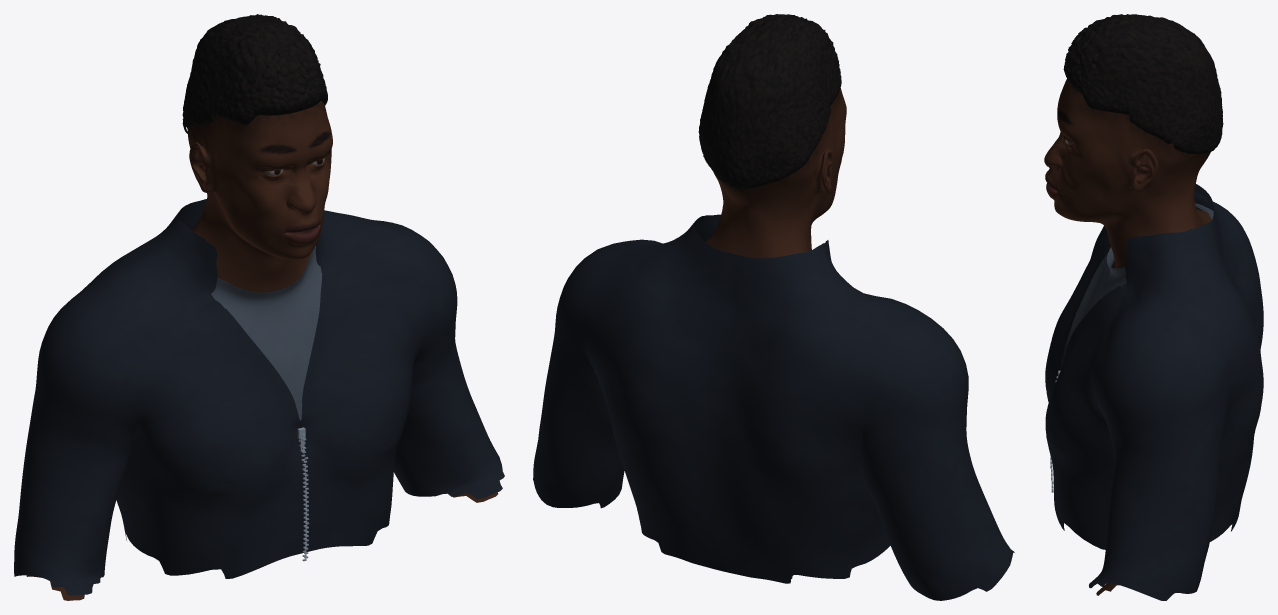
Rendered from cheikh-avatar-lite.glb.
3 renders of one model, left to right at view 1: azimuth 30°, elevation 25°; view 2: azimuth 150°, elevation 25°; view 3: azimuth 270°, elevation 25°, orthographic. The views are drawn at different scales.
Visible parts, largest first — view 1: Jacket, Skin, Hair, Tshirt, Zipper; view 2: Jacket, Hair, Skin; view 3: Jacket, Skin, Hair, Tshirt.
Boxes of the visible parts, left/top/right/bottom form: Jacket: left=14, top=199, right=504, bottom=595; Skin: left=26, top=100, right=498, bottom=600; Hair: left=182, top=14, right=327, bottom=133; Tshirt: left=211, top=245, right=322, bottom=420; Zipper: left=297, top=427, right=309, bottom=561; Jacket: left=533, top=214, right=1014, bottom=600; Hair: left=698, top=14, right=841, bottom=189; Skin: left=705, top=88, right=846, bottom=575; Jacket: left=1045, top=184, right=1263, bottom=600; Skin: left=1044, top=78, right=1211, bottom=595; Hair: left=1063, top=14, right=1223, bottom=154; Tshirt: left=1062, top=203, right=1213, bottom=362.
Size of the model in its own units: 0.6443 by 0.6756 by 0.2763.
